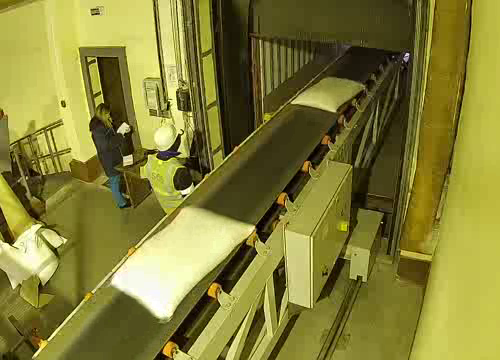bag: (102, 193, 270, 331), (282, 70, 376, 117)
